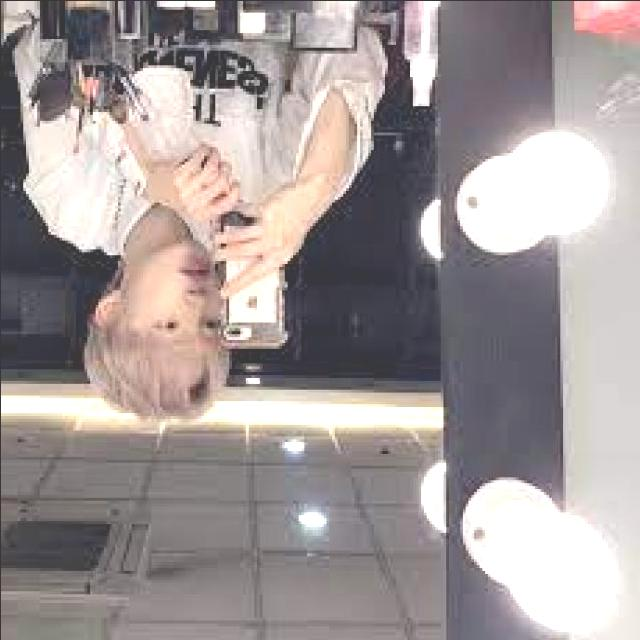lens_back: (224, 324, 242, 339)
phone: (213, 209, 285, 348)
